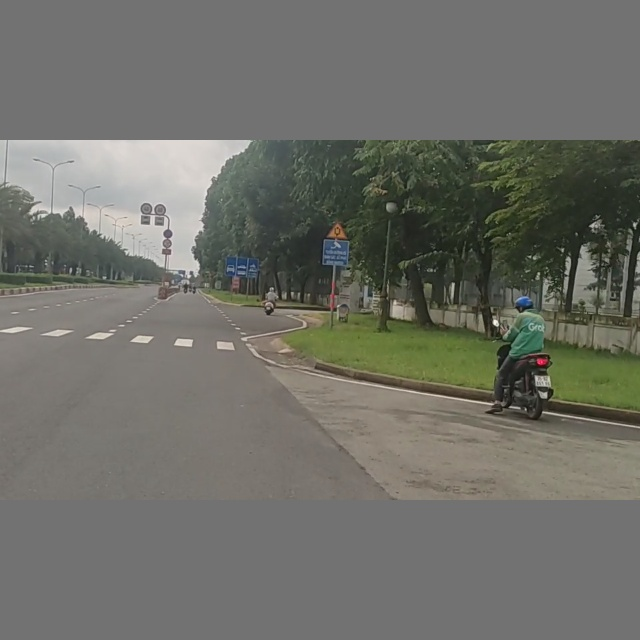W.246a: (323, 221, 352, 240)
